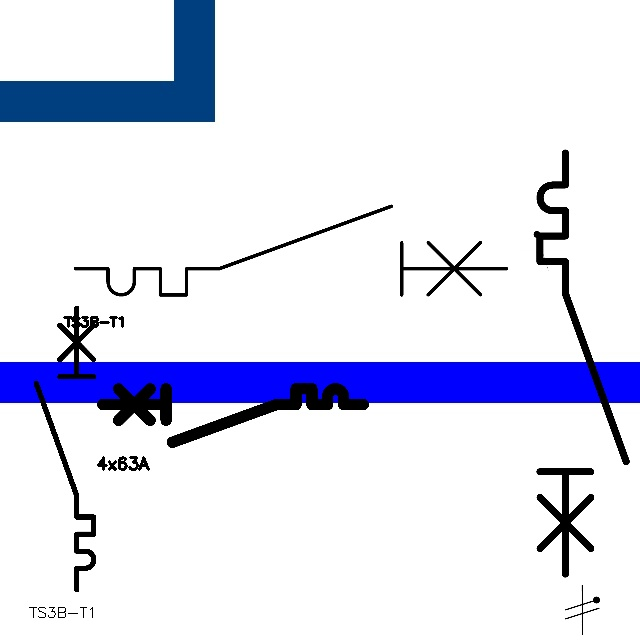interruptor_termomagnetico: (64, 195, 517, 306), (529, 142, 637, 585), (29, 301, 101, 597), (96, 382, 370, 449)
